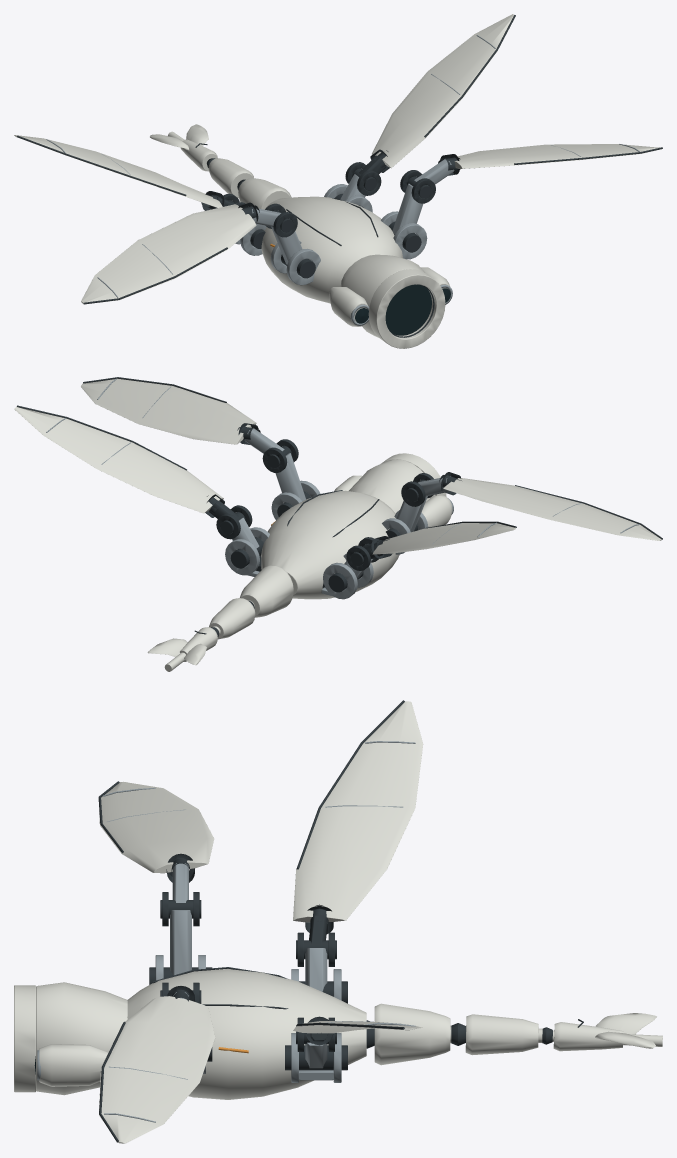
Rendered from dragonfly_scout.fbx.
The picture shows the model from 3 angles, top to bottom: view 1: azimuth 30°, elevation 25°; view 2: azimuth 150°, elevation 25°; view 3: azimuth 270°, elevation 25°; orthographic projection. The views are drawn at different scales.
Visible parts, largest first — view 1: Body, WingFront_L_Blade, WingRear_R_Blade, WingFront_R_Blade, WingRear_L_Blade, WingFront_R, WingFront_L, TailTip, TailProx, TailMid, WingFront_R_Elbow, WingRear_R (+2 smaller); view 2: Body, WingRear_R_Blade, WingFront_R_Blade, WingFront_L_Blade, WingRear_L_Blade, TailProx, TailTip, WingFront_R, WingRear_R, TailMid, WingFront_L, WingRear_L (+4 smaller); view 3: Body, WingRear_L_Blade, WingFront_R_Blade, WingFront_L_Blade, TailProx, TailTip, TailMid, WingFront_L, WingRear_L, WingRear_R, WingFront_L_Elbow, WingRear_R_Blade (+1 smaller).
Part boxes in pixels (box(x1,y1,x2,y2)): Body: box(235, 184, 452, 348); WingFront_L_Blade: box(81, 204, 259, 304); WingRear_R_Blade: box(372, 14, 515, 168); WingFront_R_Blade: box(438, 144, 662, 169); WingRear_L_Blade: box(14, 135, 222, 207); WingFront_R: box(389, 170, 435, 252); WingFront_L: box(265, 203, 315, 278); TailTip: box(150, 124, 217, 171); TailProx: box(237, 178, 291, 209); TailMid: box(207, 158, 253, 198); WingFront_R_Elbow: box(407, 154, 459, 198); WingRear_R: box(335, 162, 381, 206); Body: box(225, 453, 453, 599); WingRear_R_Blade: box(14, 405, 223, 513); WingFront_R_Blade: box(81, 377, 260, 444); WingFront_L_Blade: box(439, 475, 662, 540); WingRear_L_Blade: box(370, 521, 516, 554); TailProx: box(240, 565, 293, 617); TailTip: box(147, 627, 217, 671); WingFront_R: box(262, 439, 310, 516); WingRear_R: box(216, 505, 263, 568); TailMid: box(209, 598, 255, 639); WingFront_L: box(386, 473, 433, 538); WingRear_L: box(328, 537, 379, 592); Body: box(14, 955, 374, 1099); WingRear_L_Blade: box(293, 700, 423, 933); WingFront_R_Blade: box(99, 996, 215, 1143); WingFront_L_Blade: box(98, 781, 214, 873); TailProx: box(374, 1003, 465, 1065); TailTip: box(552, 1013, 662, 1051); TailMid: box(465, 1014, 552, 1055); WingFront_L: box(149, 892, 212, 984); WingRear_L: box(297, 932, 347, 1003); WingRear_R: box(285, 1017, 347, 1070); WingFront_L_Elbow: box(160, 853, 201, 918); WingRear_R_Blade: box(293, 1021, 422, 1033).
Bounding box in the file's own units: 285 × 79.52 × 206.
